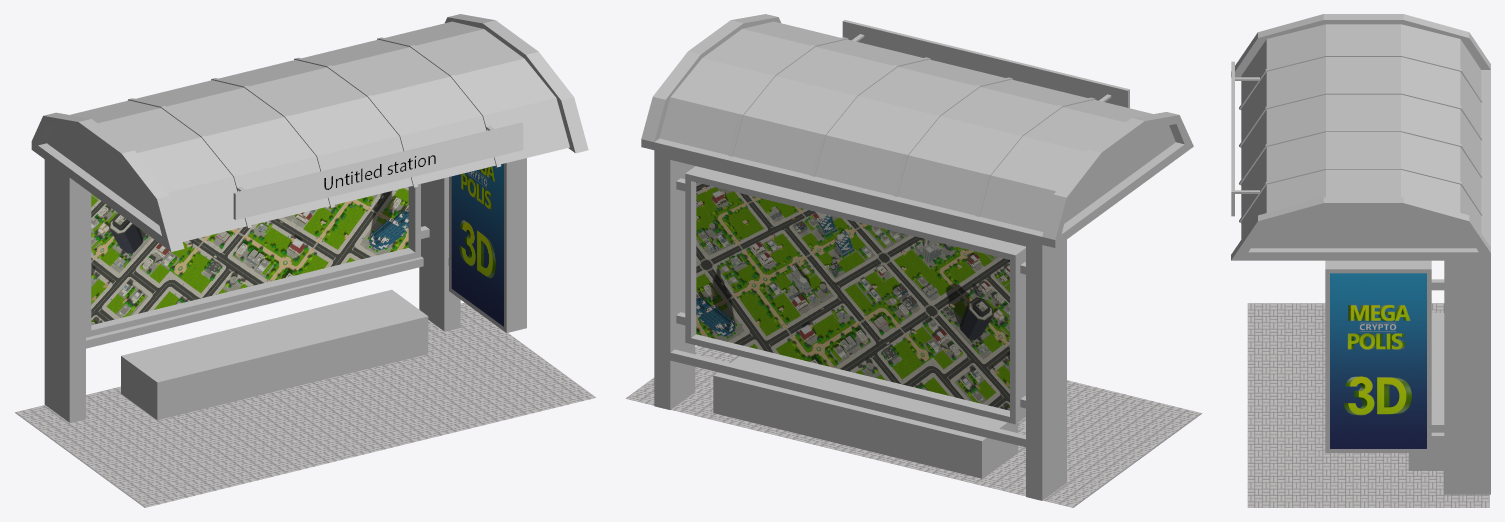
The model's file is Bus_Stop.fbx.
3 views of the same model, side by side, from view 1: azimuth 30°, elevation 25°; view 2: azimuth 150°, elevation 25°; view 3: azimuth 270°, elevation 25° (orthographic). The views are drawn at different scales.
Visible parts, largest first — view 1: Bus_Stop, Plane, Bus_Stop.001; view 2: Bus_Stop, Bus_Stop.001, Plane; view 3: Bus_Stop, Plane.
Boxes of the visible parts, box(x1,y1,x2,y2) form: Bus_Stop: box(31, 14, 588, 422); Plane: box(15, 302, 595, 507); Bus_Stop.001: box(91, 187, 408, 324); Bus_Stop: box(641, 14, 1193, 500); Bus_Stop.001: box(696, 182, 1009, 410); Plane: box(626, 345, 1201, 507); Bus_Stop: box(1231, 14, 1490, 494); Plane: box(1247, 303, 1489, 507).
Size of the model in its own units: 500 by 339 by 268.
